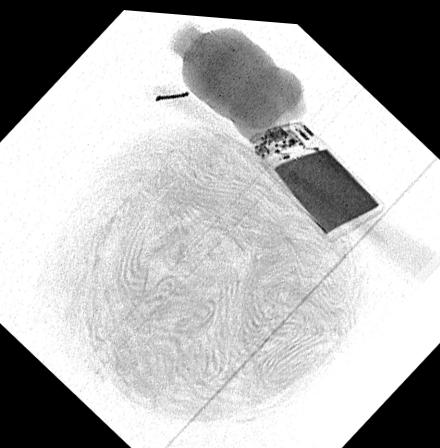Powerbank: (247, 113, 384, 238)
